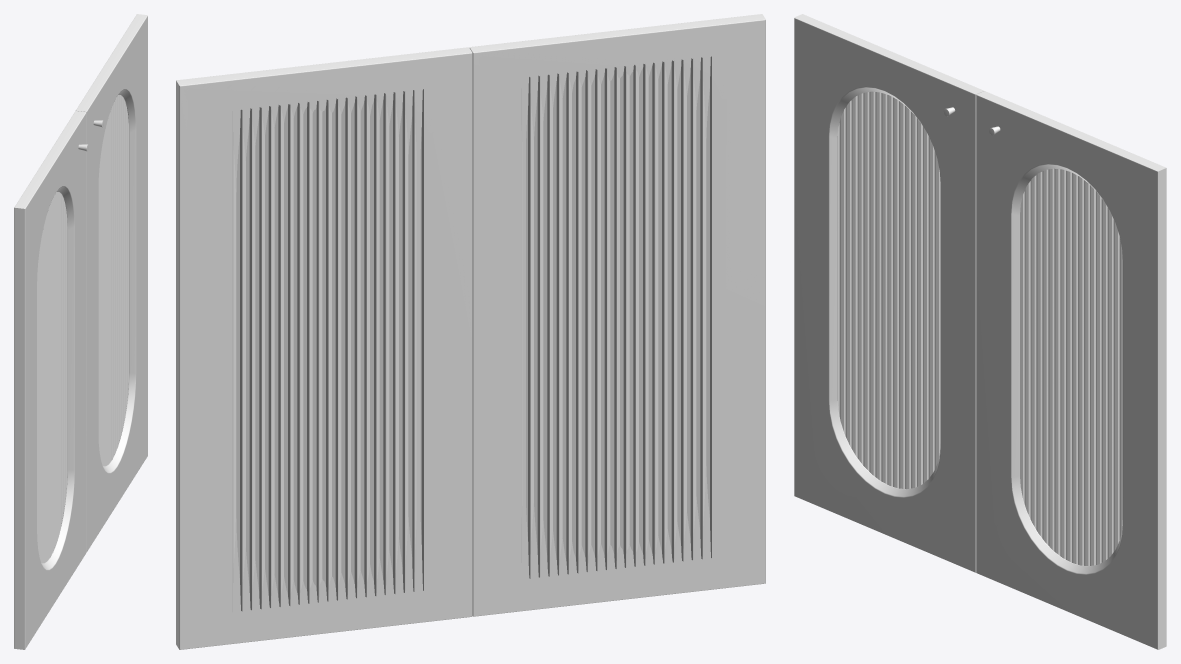
Rendered from tvtable_0201_door.glb.
The picture shows the model from 3 angles, left to right: view 1: azimuth 30°, elevation 25°; view 2: azimuth 150°, elevation 25°; view 3: azimuth 270°, elevation 25°; orthographic projection. The views are drawn at different scales.
Parts seen in each view (by area): view 1: tvtable_0201_door; view 2: tvtable_0201_door; view 3: tvtable_0201_door.
Part boxes in pixels (box(x1,y1,x2,y2)): tvtable_0201_door: box(14, 14, 147, 649); tvtable_0201_door: box(176, 14, 765, 649); tvtable_0201_door: box(794, 14, 1166, 649).
Size of the model in its own units: 0.5793 by 0.8212 by 0.5793.
1 material, 1 textured.
